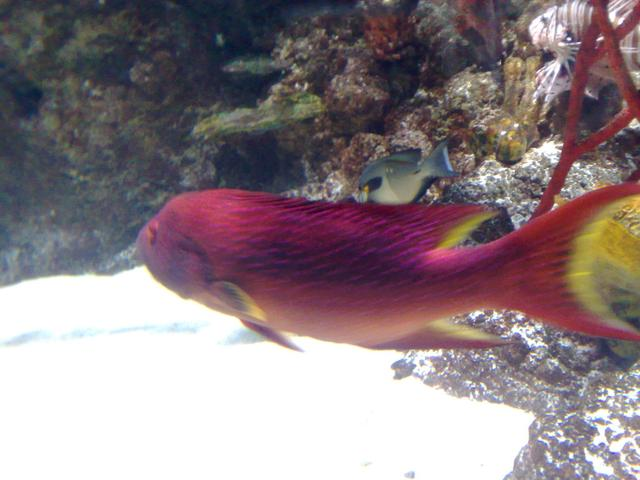fish: (125, 137, 640, 371)
